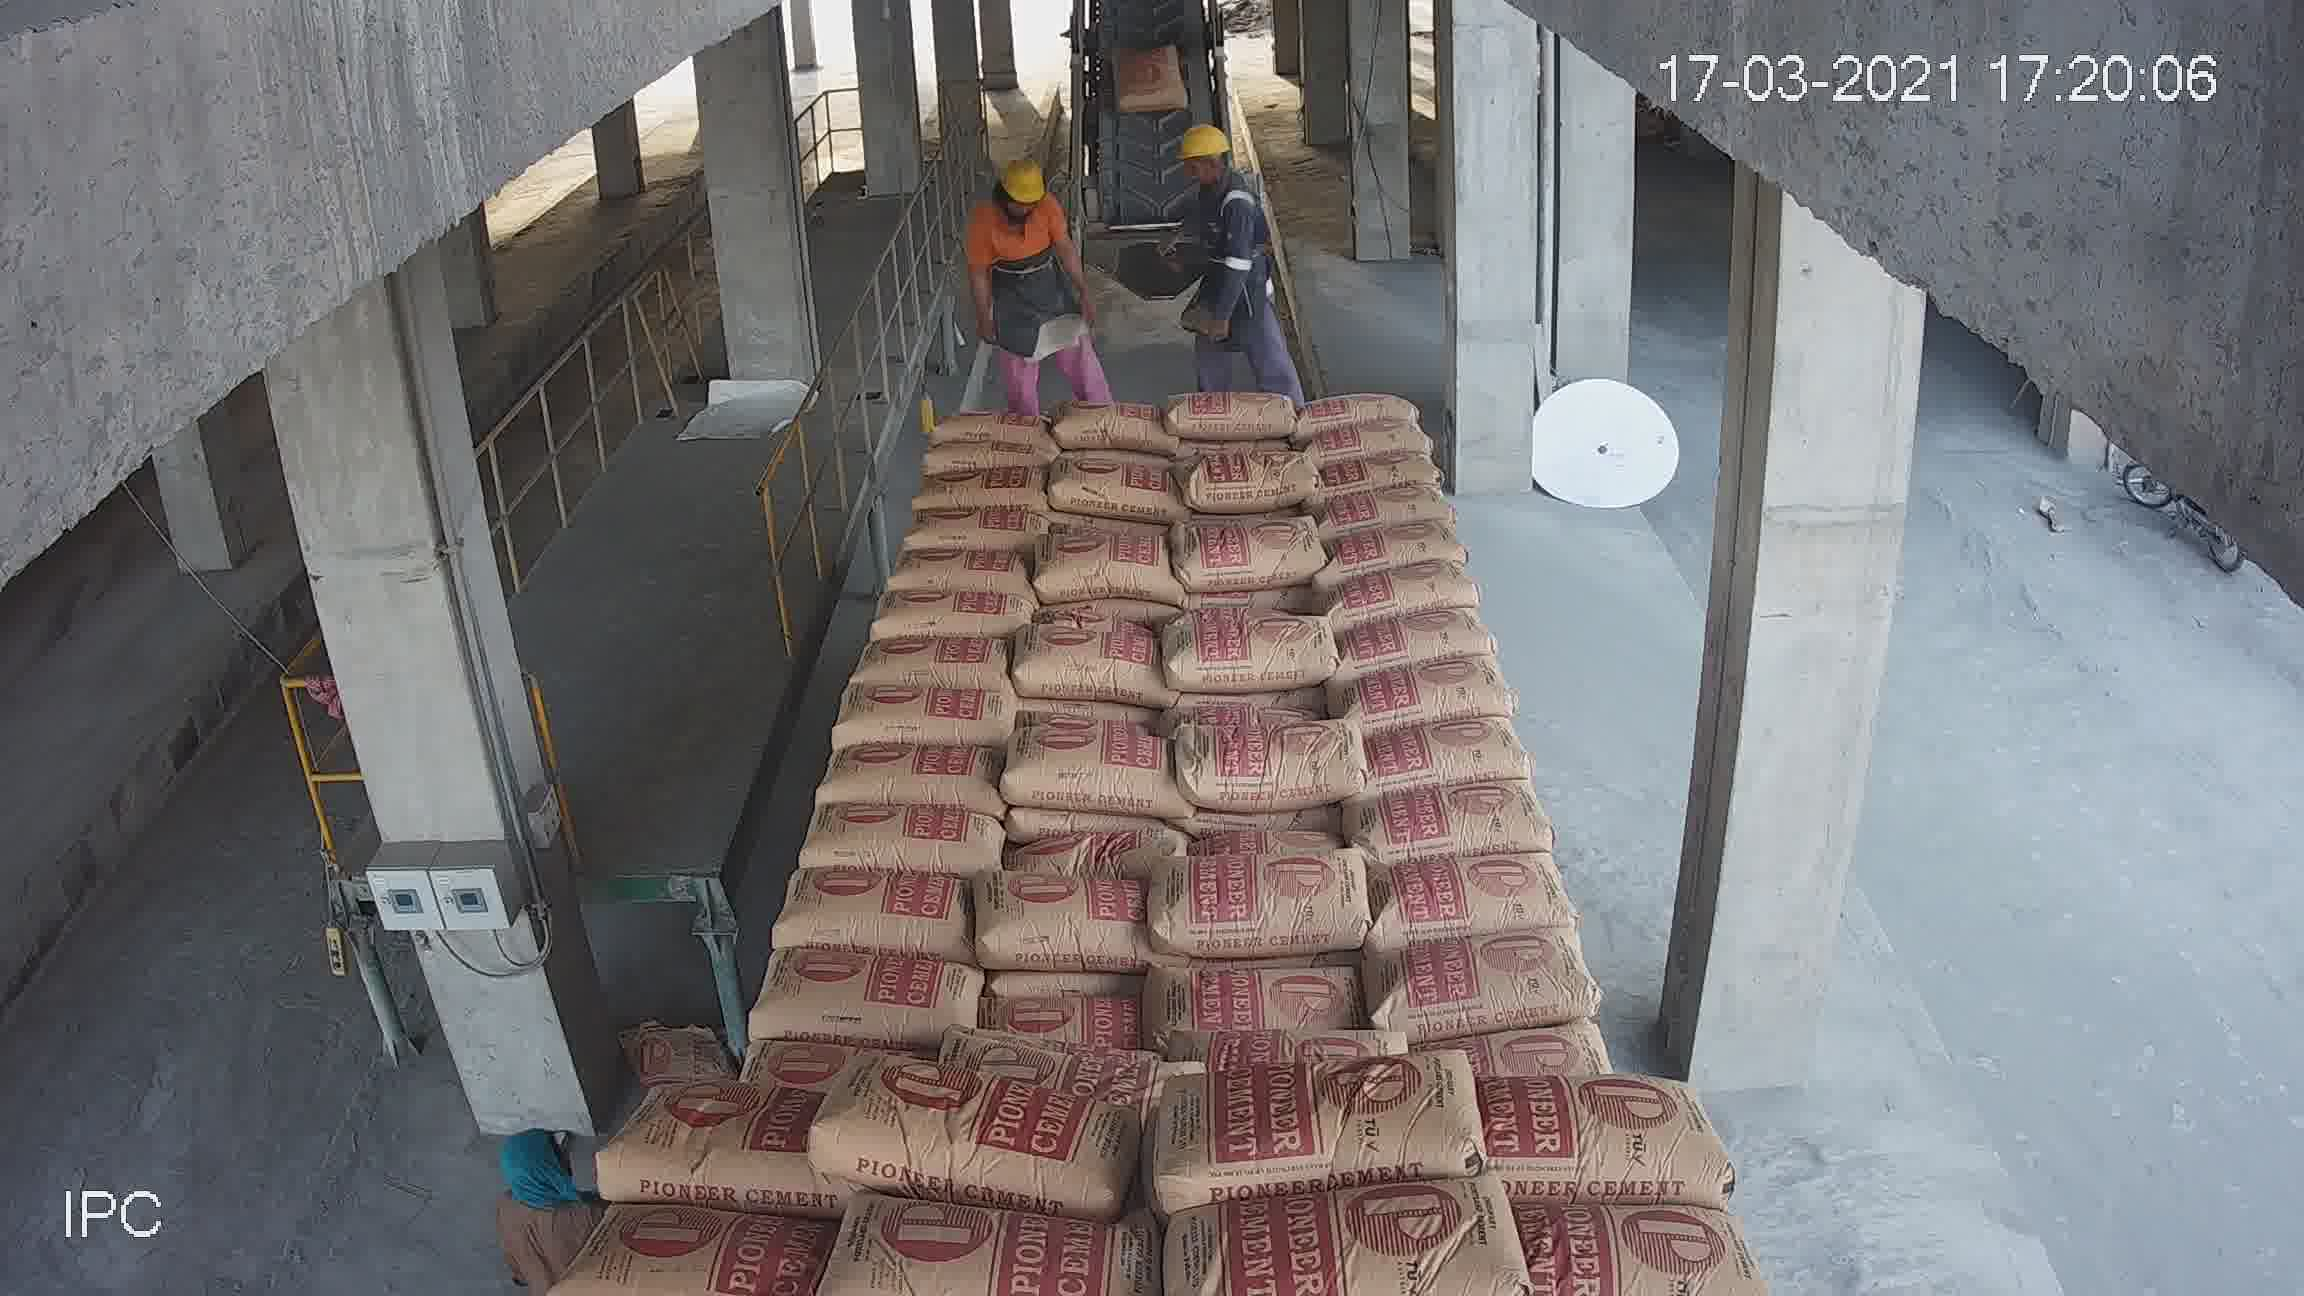bag: (1103, 554, 1249, 729), (1081, 95, 1222, 210)
bag_h: (1116, 1025, 1492, 1223), (1103, 919, 1446, 1078), (1158, 1161, 1537, 1296), (786, 1059, 1147, 1195), (623, 949, 889, 1103), (829, 1187, 1184, 1296), (840, 957, 1127, 1090), (1465, 1065, 1726, 1192), (1499, 1179, 1772, 1296), (592, 1082, 812, 1212), (554, 1211, 858, 1296), (1487, 943, 1684, 1074), (1166, 847, 1372, 961), (771, 859, 956, 953), (1002, 766, 1150, 880), (967, 866, 1161, 943), (991, 709, 1157, 782), (1446, 847, 1578, 935), (1393, 786, 1563, 847), (1413, 711, 1537, 793), (1405, 650, 1503, 722), (1405, 601, 1492, 665), (1393, 570, 1487, 619), (1304, 332, 1407, 377), (1304, 358, 1416, 392), (1378, 524, 1465, 568), (1377, 481, 1457, 519), (1356, 377, 1429, 413), (1298, 318, 1388, 347)
belt: (994, 21, 1318, 570)
